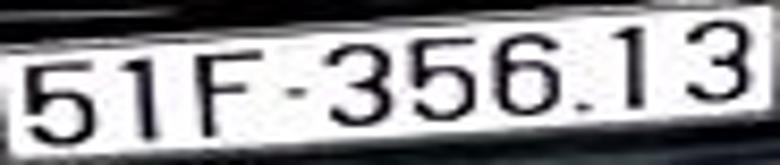-: (571, 96, 595, 125), (281, 82, 313, 103)
1: (117, 58, 161, 141), (612, 22, 649, 110)
3: (322, 44, 396, 129), (679, 18, 756, 98)
5: (19, 59, 100, 146), (410, 36, 479, 122)
6: (492, 32, 563, 118)
F: (192, 47, 265, 137)
